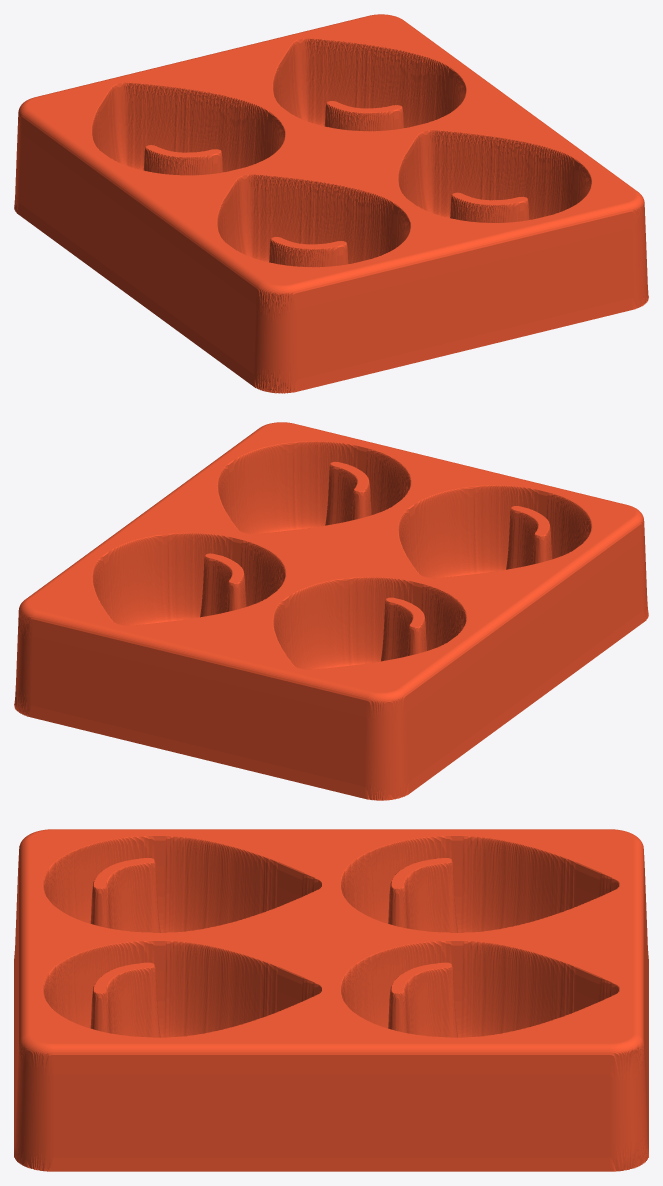
The model's file is mold.glb.
The picture shows the model from 3 angles, top to bottom: view 1: azimuth 30°, elevation 25°; view 2: azimuth 150°, elevation 25°; view 3: azimuth 270°, elevation 25°; orthographic projection. The views are drawn at different scales.
Visible parts, largest first — view 1: geometry_0; view 2: geometry_0; view 3: geometry_0.
Boxes of the visible parts, bbox=[...] form: geometry_0: bbox=[14, 14, 648, 393]; geometry_0: bbox=[14, 422, 648, 800]; geometry_0: bbox=[14, 829, 648, 1171].
Bounding box in the file's own units: 0.1237 × 0.031 × 0.1466.
